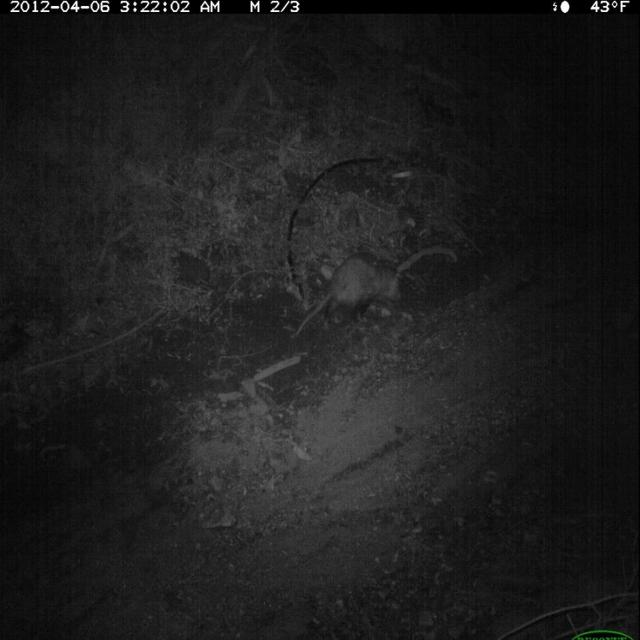opossum: (292, 250, 408, 341)
